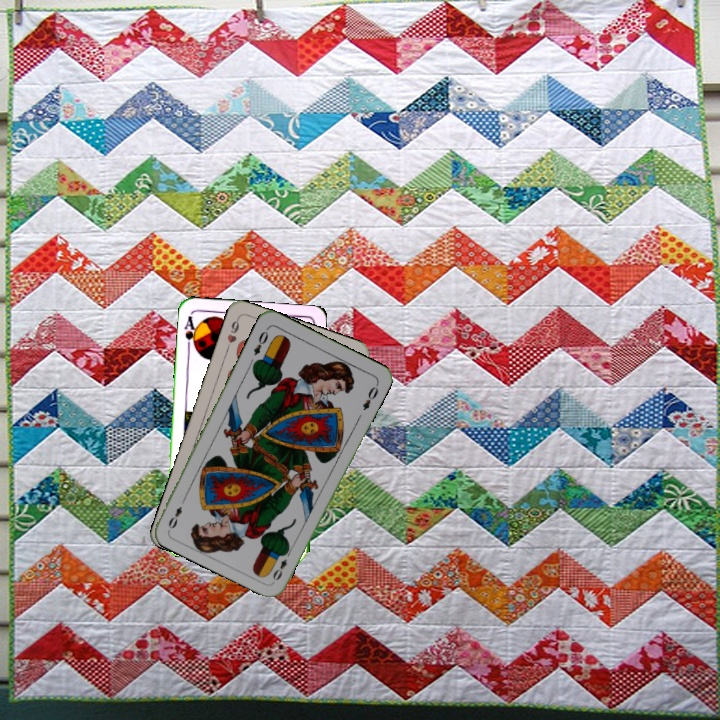EO: (269, 546, 294, 583), (249, 324, 271, 358)
H9: (222, 314, 242, 354)
SA: (180, 312, 200, 352)
